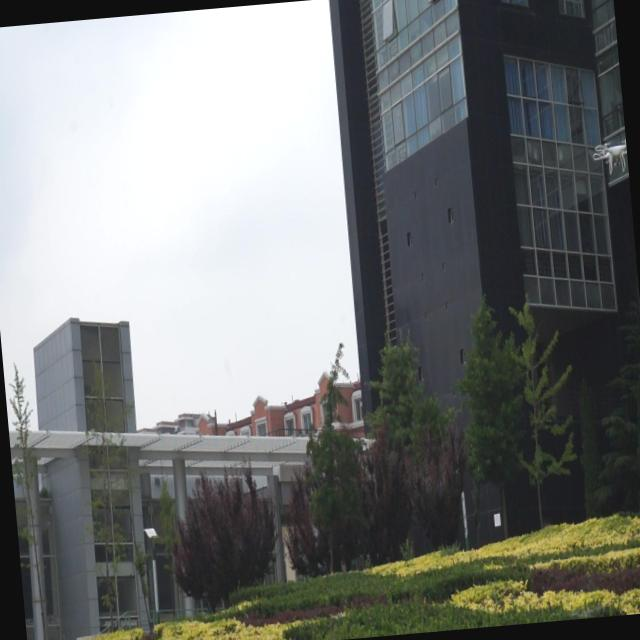drone: (590, 138, 628, 178)
